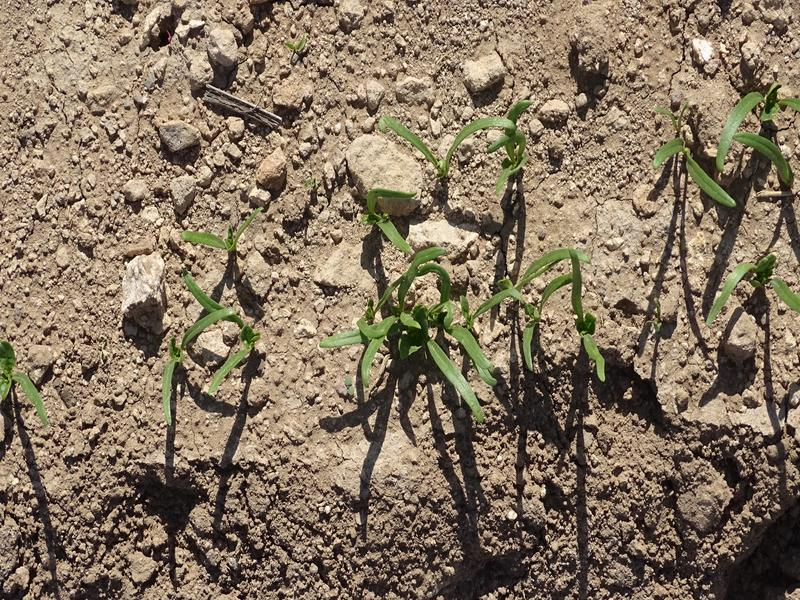Espinaca: (333, 232, 605, 401), (644, 81, 791, 196), (379, 103, 529, 187), (168, 279, 260, 408), (714, 251, 800, 319), (1, 341, 54, 428), (178, 211, 270, 251)
